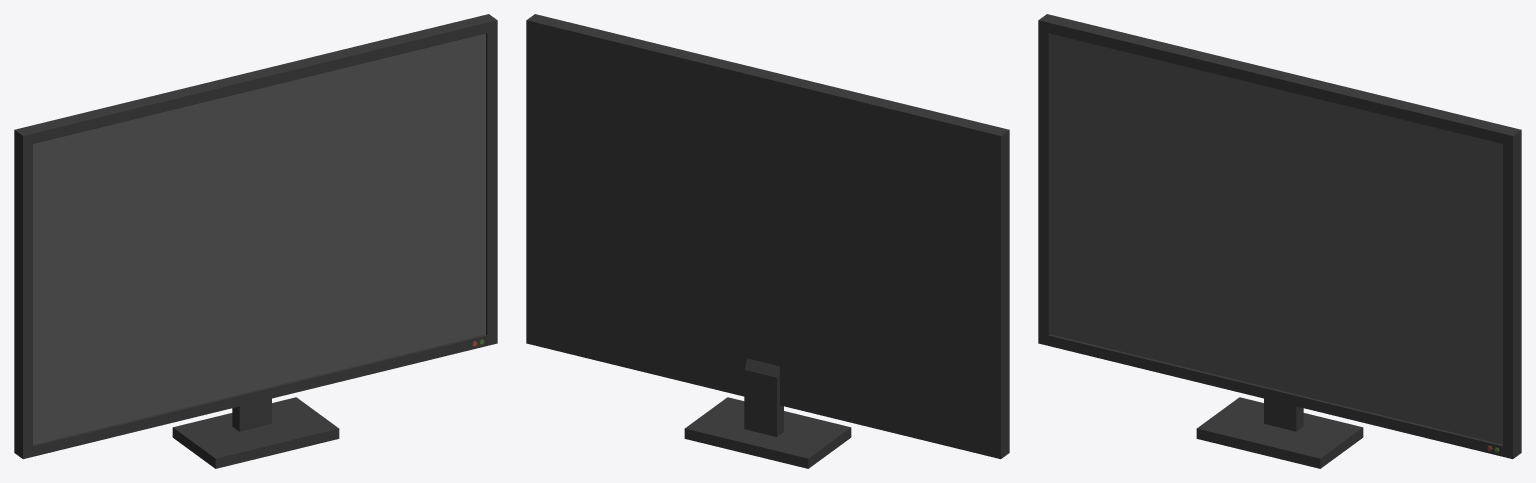
3 views of the same model, side by side, from view 1: azimuth 30°, elevation 25°; view 2: azimuth 150°, elevation 25°; view 3: azimuth 330°, elevation 25° (orthographic).
Parts seen in each view (by area): view 1: TV_02; view 2: TV_02; view 3: TV_02.
Part boxes in pixels (x1,y1,x2,y2): TV_02: (14, 14, 497, 468); TV_02: (526, 14, 1009, 468); TV_02: (1038, 14, 1521, 468).
Size of the model in its own units: 96 by 70.23 by 15.
